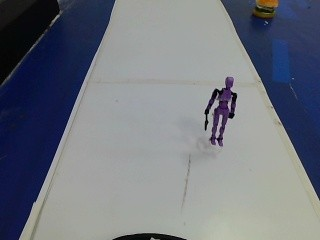burger: (246, 0, 281, 20)
pedestrian: (200, 69, 241, 153)
